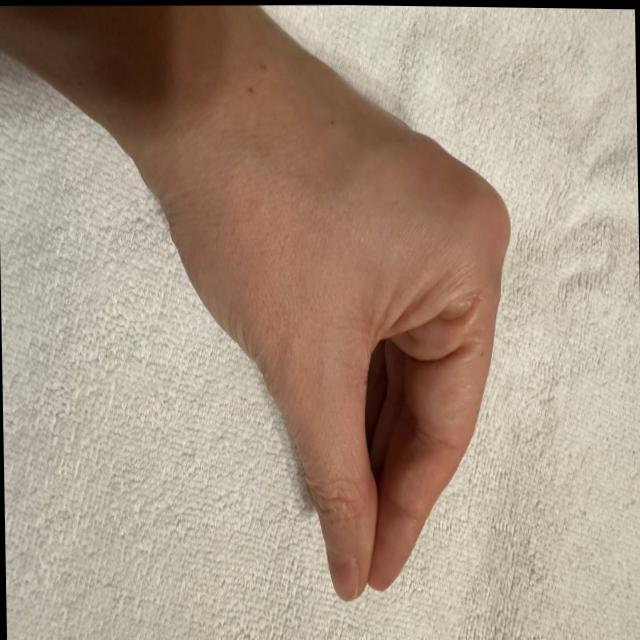zh: (188, 127, 540, 608)
